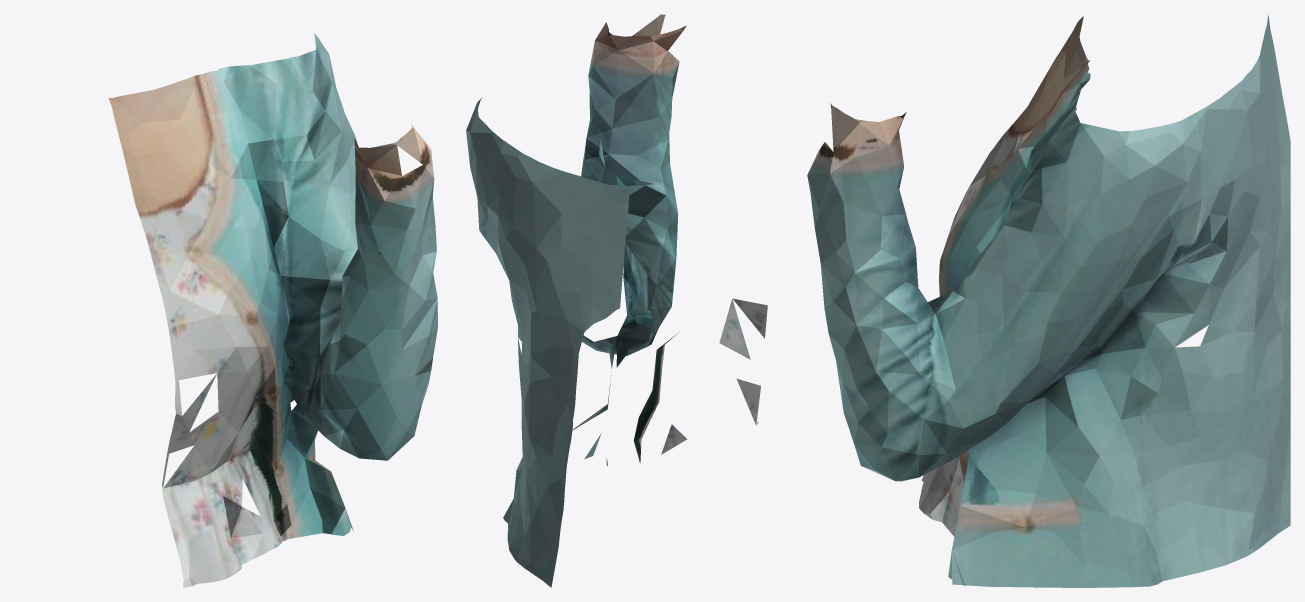
3 views of the same model, side by side, from view 1: azimuth 30°, elevation 25°; view 2: azimuth 150°, elevation 25°; view 3: azimuth 270°, elevation 25° (orthographic). The views are drawn at different scales.
Size of the model in its own units: 197 by 343 by 318.
1 material, 1 textured.
